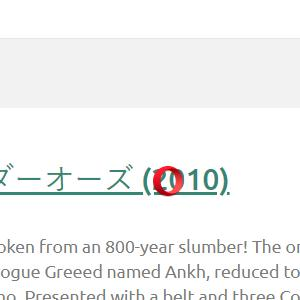opera: (153, 164, 184, 196)
